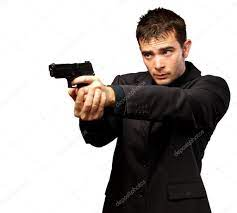gun: (46, 57, 100, 98)
